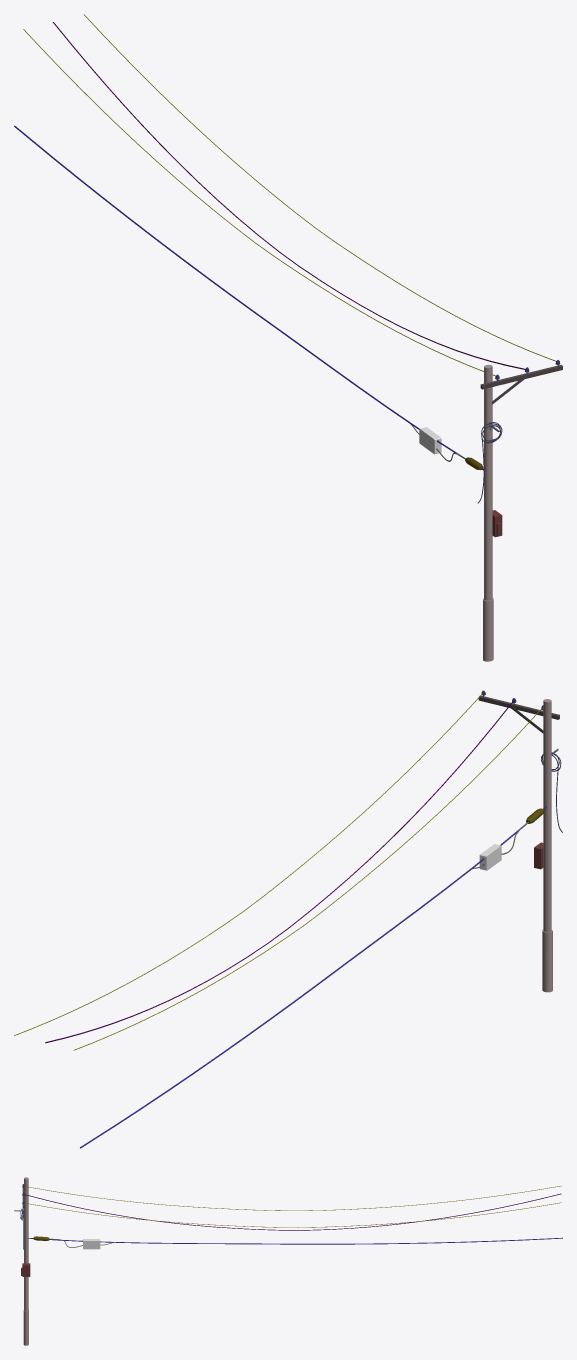
The model's file is Poste 1_UV.fbx.
3 renders of one model, top to bottom at view 1: azimuth 30°, elevation 25°; view 2: azimuth 150°, elevation 25°; view 3: azimuth 270°, elevation 25°, orthographic. The views are drawn at different scales.
Parts seen in each view (by area): view 1: Cylinder024, Cylinder052, Cylinder027; view 2: Cylinder024, Cylinder052, Cylinder027, Cylinder026, Cylinder038; view 3: Cylinder024, Cylinder052, Cylinder027, Cylinder038, Cylinder026.
Part boxes in pixels (x1,y1,x2,y2): Cylinder024: (483, 364, 493, 661); Cylinder052: (14, 125, 483, 470); Cylinder027: (52, 22, 524, 369); Cylinder024: (542, 699, 552, 992); Cylinder052: (80, 806, 546, 1148); Cylinder027: (45, 701, 513, 1043); Cylinder026: (73, 708, 542, 1050); Cylinder038: (14, 693, 482, 1035); Cylinder024: (23, 1177, 28, 1345); Cylinder052: (28, 1237, 562, 1244); Cylinder027: (24, 1193, 561, 1230); Cylinder038: (25, 1202, 561, 1227); Cylinder026: (24, 1185, 561, 1210).
Size of the model in its own units: 56.02 by 186 by 556.
